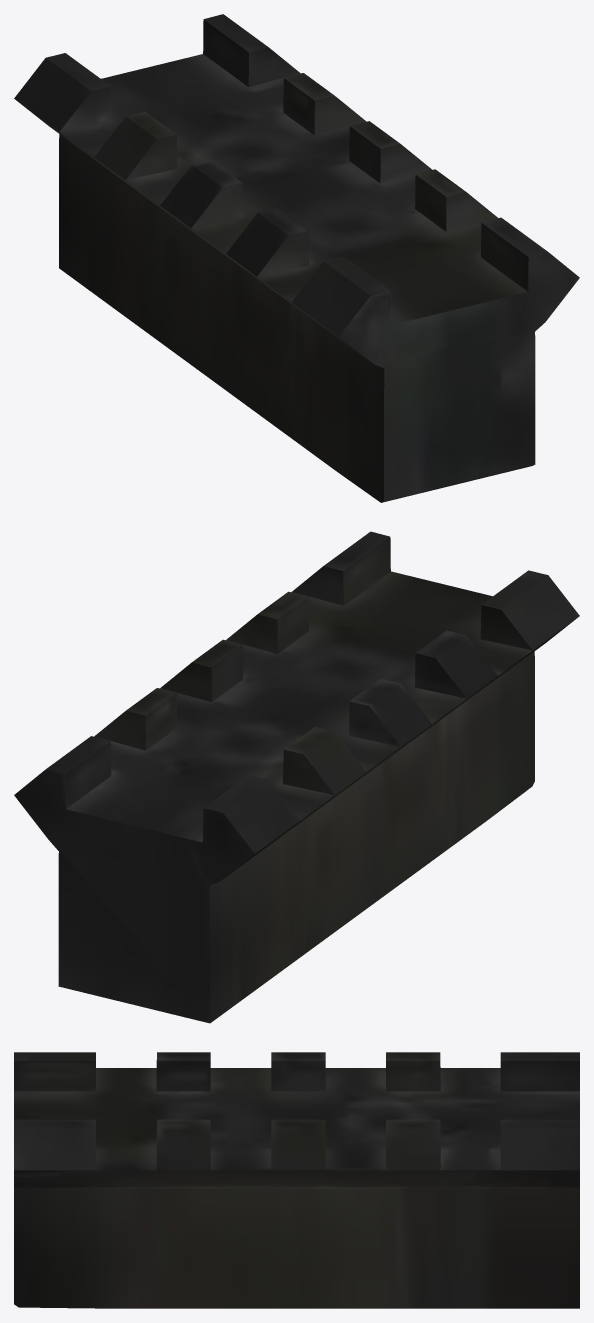
Rendered from Mounting-Rail-Piece.glb.
The picture shows the model from 3 angles, top to bottom: view 1: azimuth 30°, elevation 25°; view 2: azimuth 150°, elevation 25°; view 3: azimuth 270°, elevation 25°; orthographic projection. The views are drawn at different scales.
Parts seen in each view (by area): view 1: Mounting Rail Piece; view 2: Mounting Rail Piece; view 3: Mounting Rail Piece.
Boxes of the visible parts, x1,y1,x2,y2 form: Mounting Rail Piece: [14, 14, 579, 502]; Mounting Rail Piece: [14, 531, 579, 1023]; Mounting Rail Piece: [14, 1052, 579, 1308].
Size of the model in its own units: 0.0211 by 0.0179 by 0.0494.
Materials: 1 (1 with a texture image).
